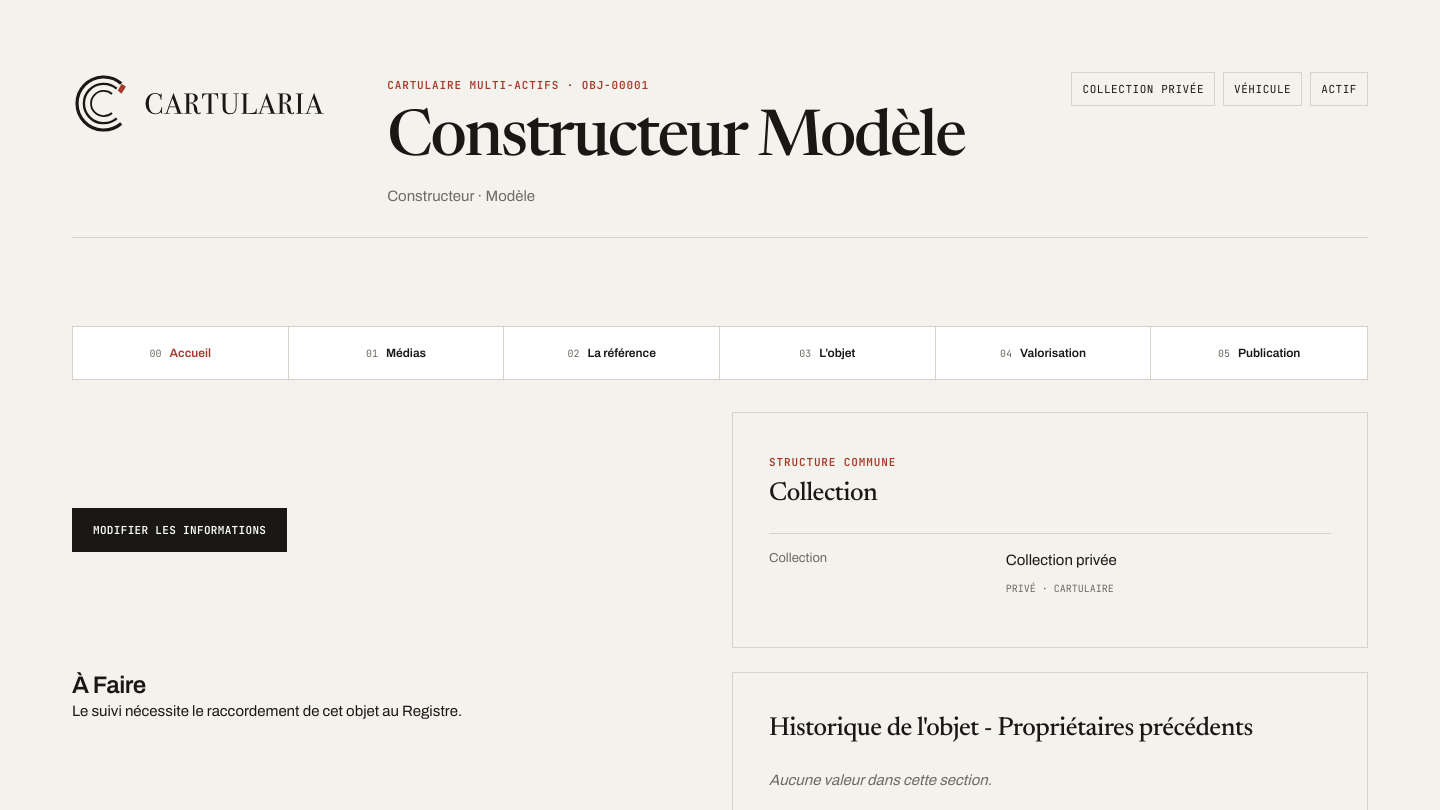
envoie seulement les champs changés et conserve la saisie après un refus serveur
This screenshot has width=1440, height=810.
Click the button "Modifier les informations": (180, 530) [72,508,287,552]
(page scrolled)
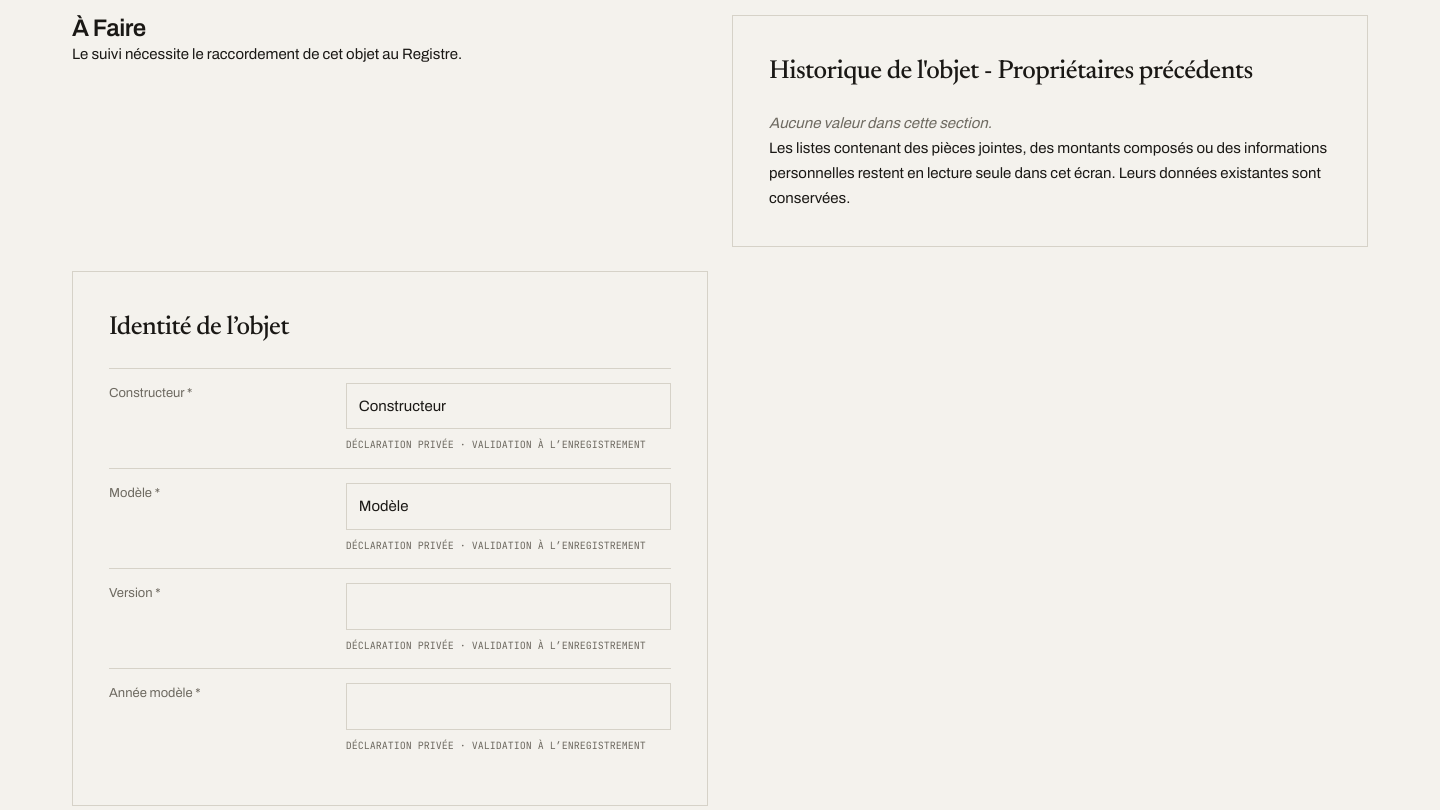
Replace the text in the field labelled "Constructeur *" with "Constructeur corrigé": (508, 406) [346,382,671,429]
(page scrolled)
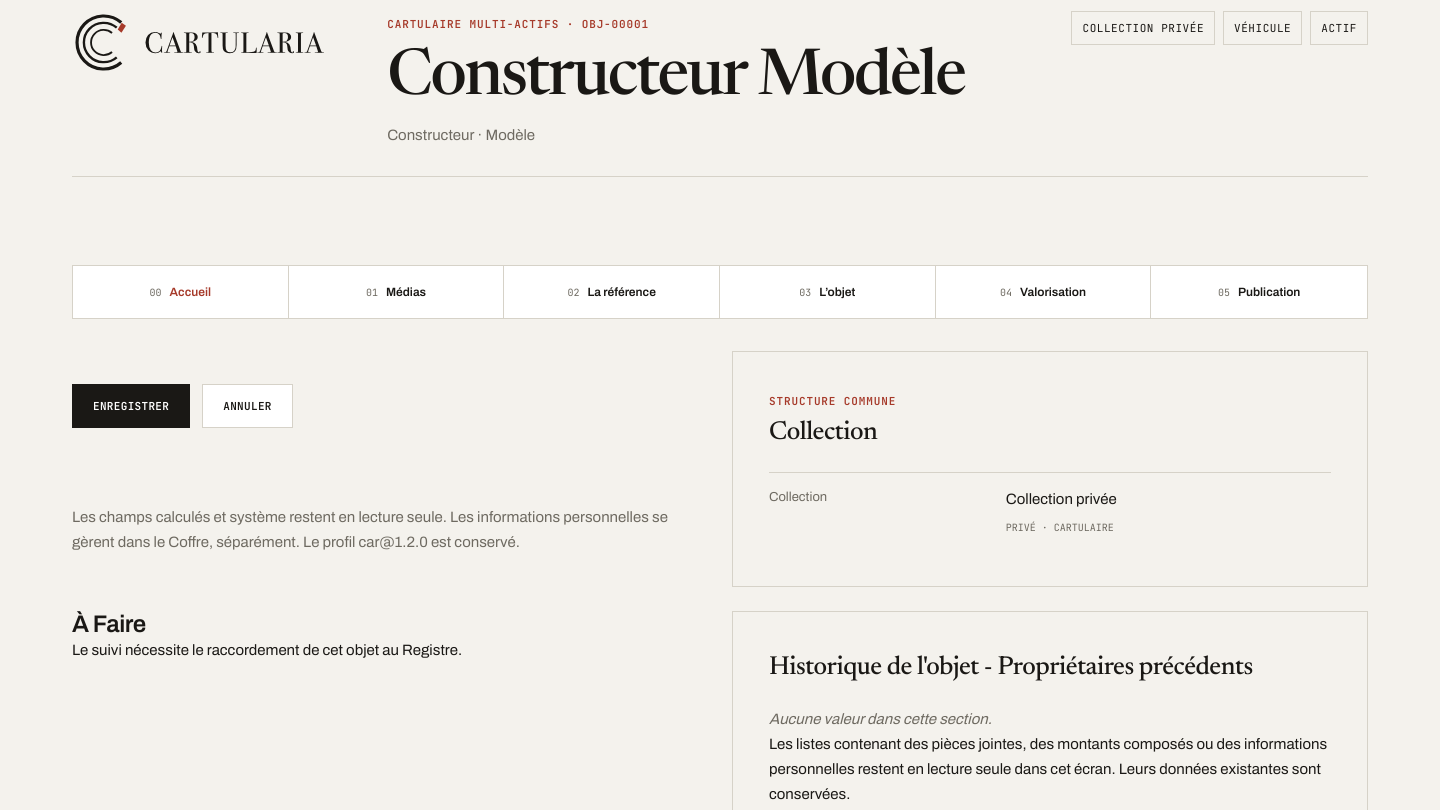
Click the button "Enregistrer": (131, 406) [72,384,190,428]
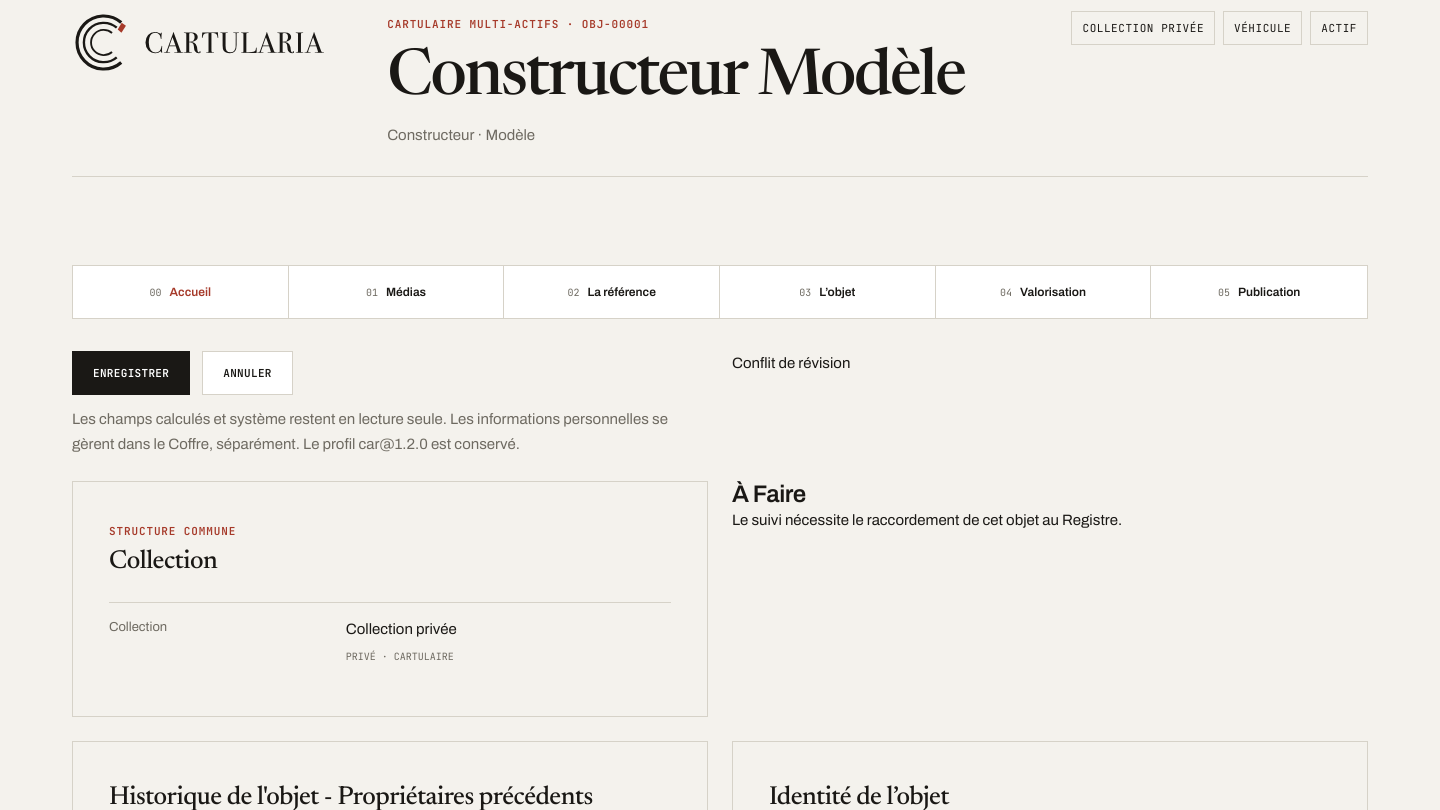
Check: the message reads "Conflit de révision", box [732,355,850,371]
Click the button "Enregistrer": (131, 373) [72,351,190,395]
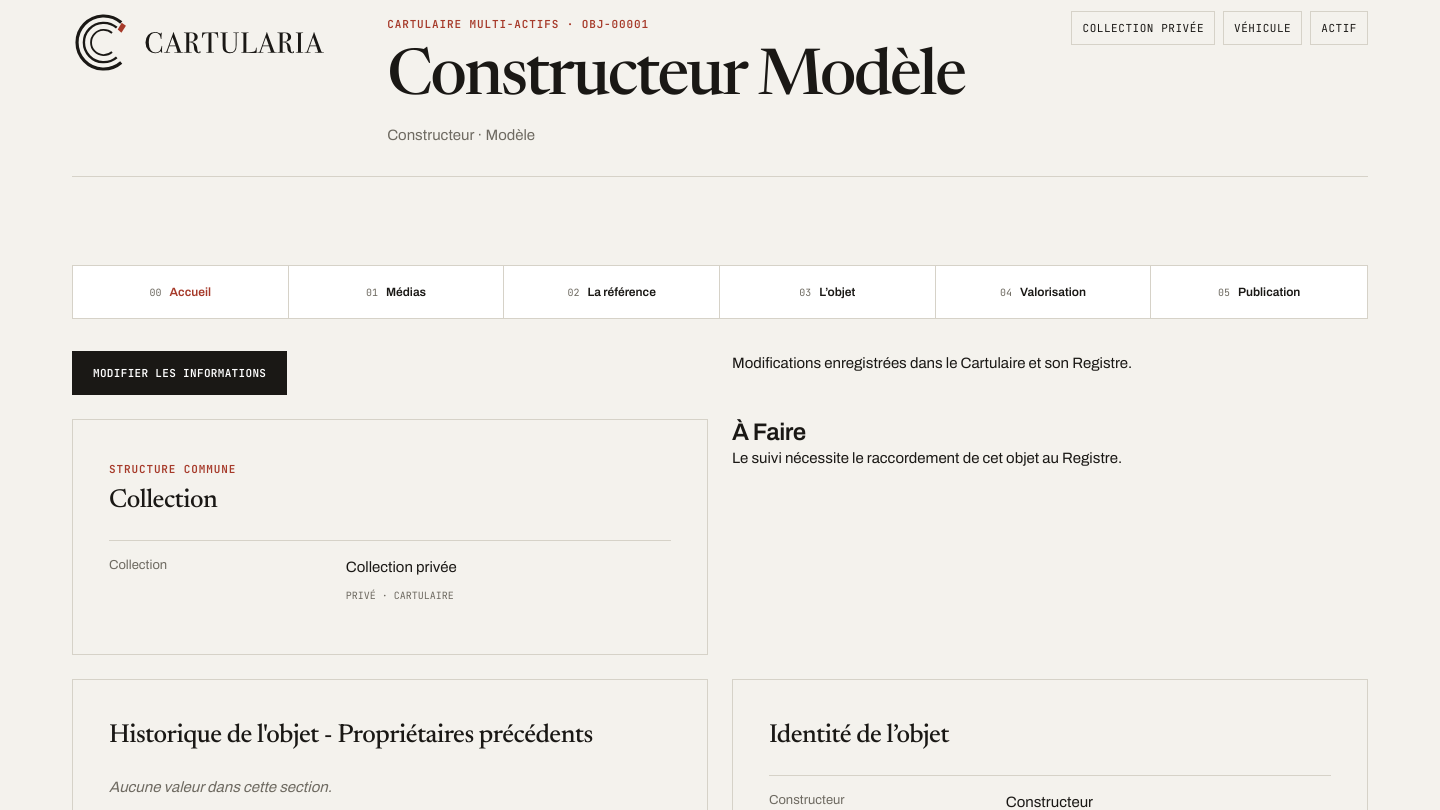
Check: the message shows "Modifications enregistrées", box [732,355,1132,371]
